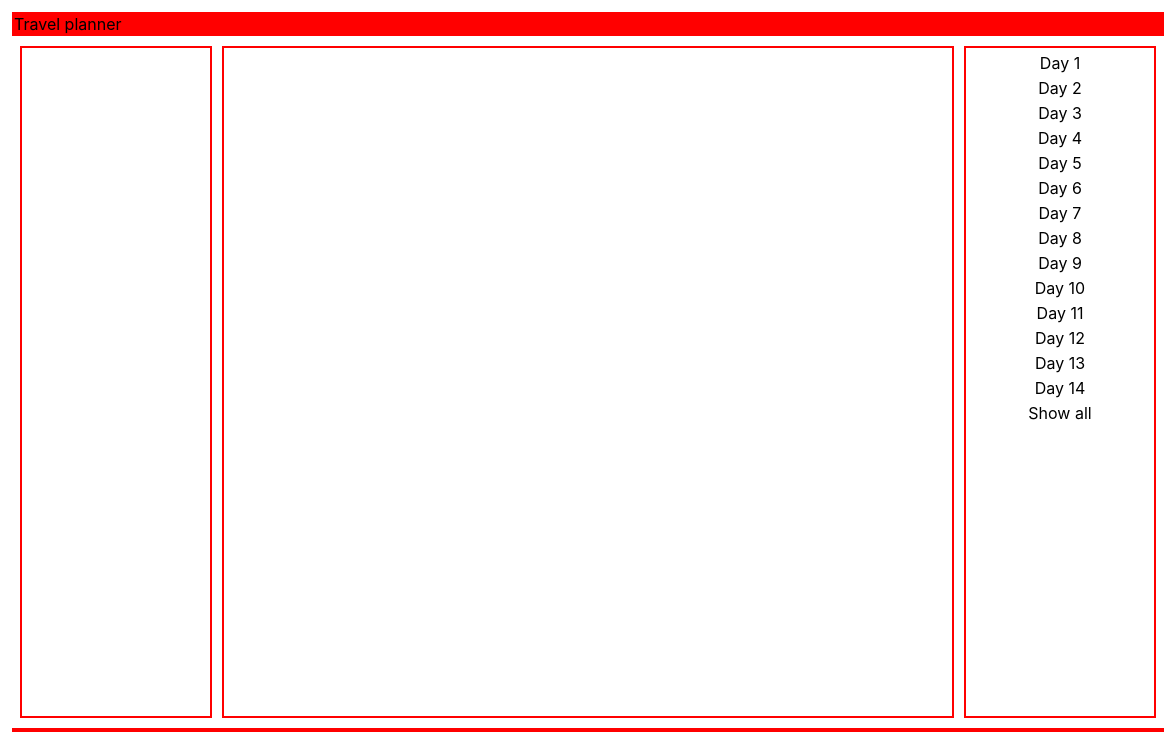
it: App component › shows correct day in left sidebar when clicking a day in the right sidebar
Click the text with id "day-1". click: (1060, 63)
box: [1040,53,1080,73]
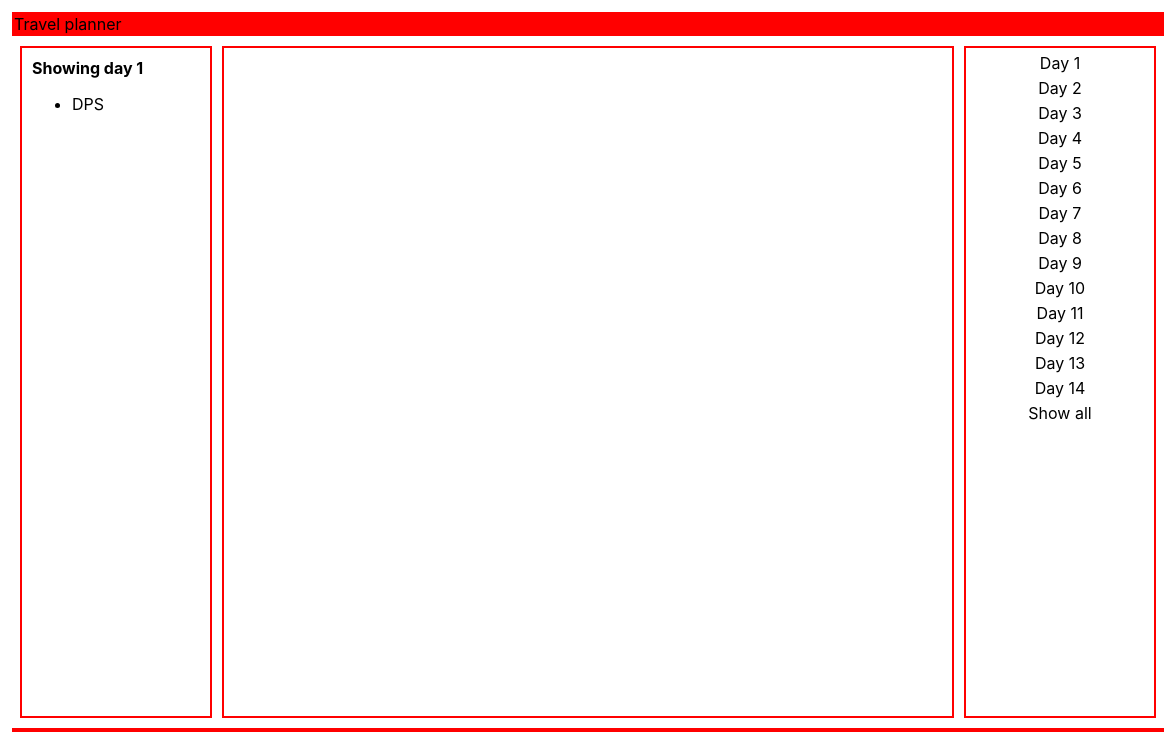
Now the text with id "day" reads "Showing day 1", box [32,58,143,78]
